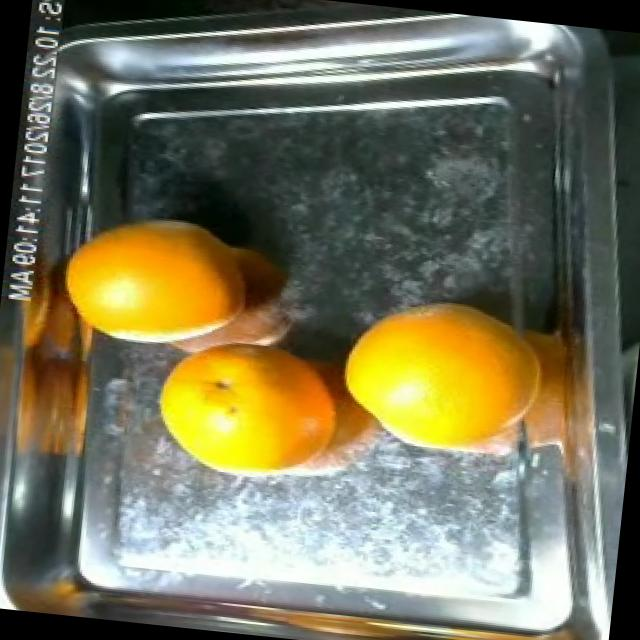Fruit: (318, 272, 544, 478), (130, 317, 360, 493), (42, 190, 274, 362)
